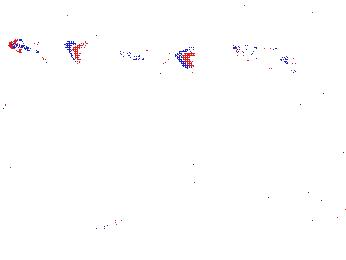X-ray fish: (26, 1, 82, 38)
glassfish: (177, 125, 261, 189)
redtail glassfish: (7, 33, 83, 63), (227, 42, 297, 71), (112, 65, 179, 95), (118, 44, 195, 70)
